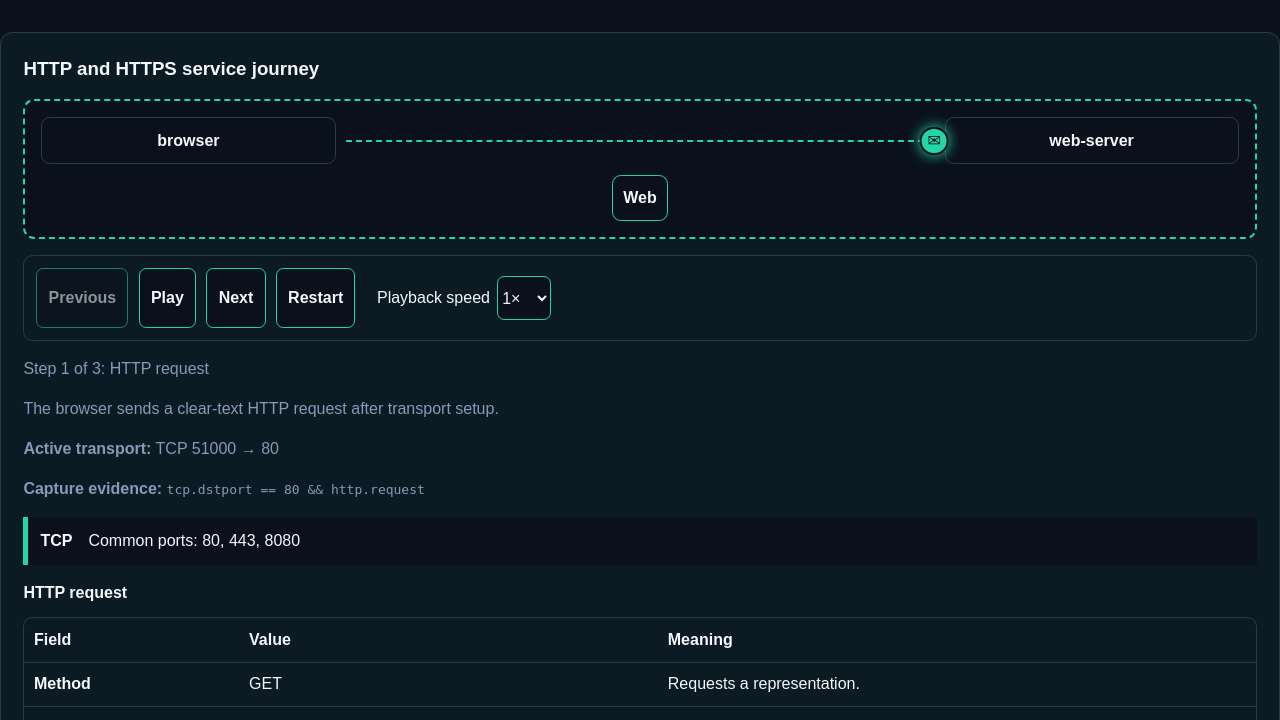
Test: ServiceJourneyPlayer › keeps topology, ports, and message evidence synchronized with navigation
expect the message reads "Step 1 of 3: HTTP request": met, box [23, 360, 209, 377]
expect the table named "protocol message" shows "GET": met, box [249, 675, 282, 692]
Click the button "Next" at (236, 298), box [206, 268, 266, 328]
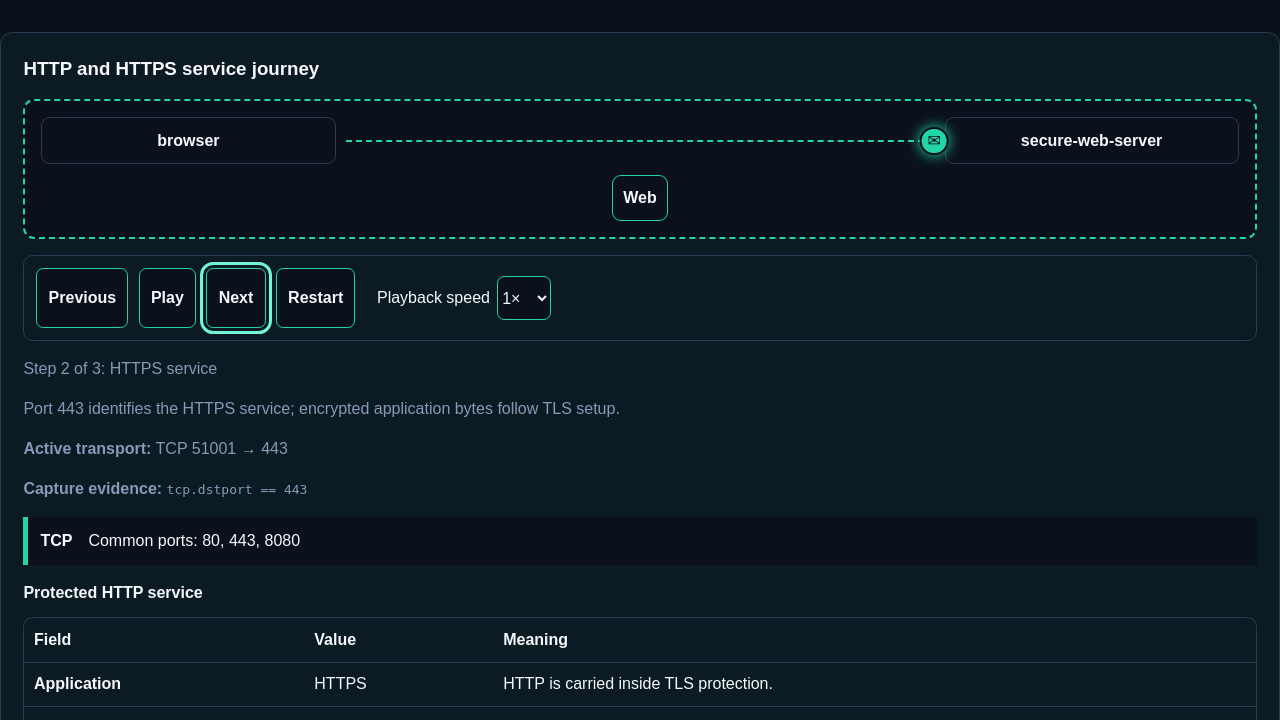
expect the message reads "Step 2 of 3: HTTPS service": met, box [23, 360, 217, 377]
expect the text "TCP 51001 → 443" is shown: met, box [23, 440, 288, 457]
